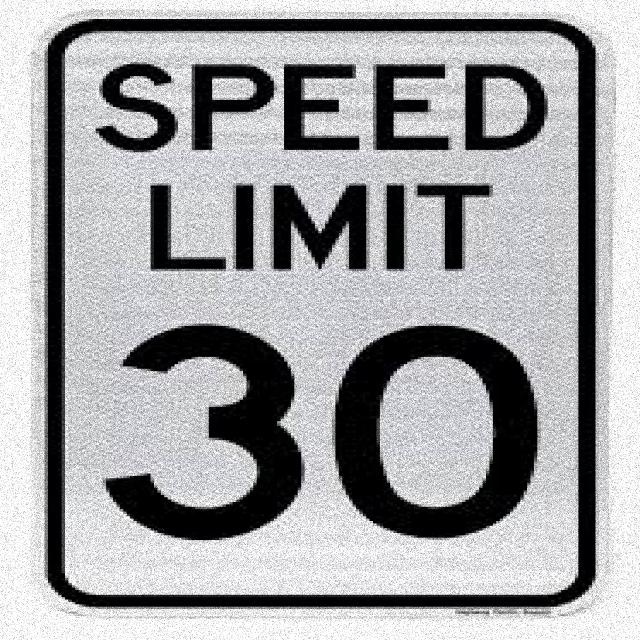speedLimit30: (26, 11, 611, 622)
